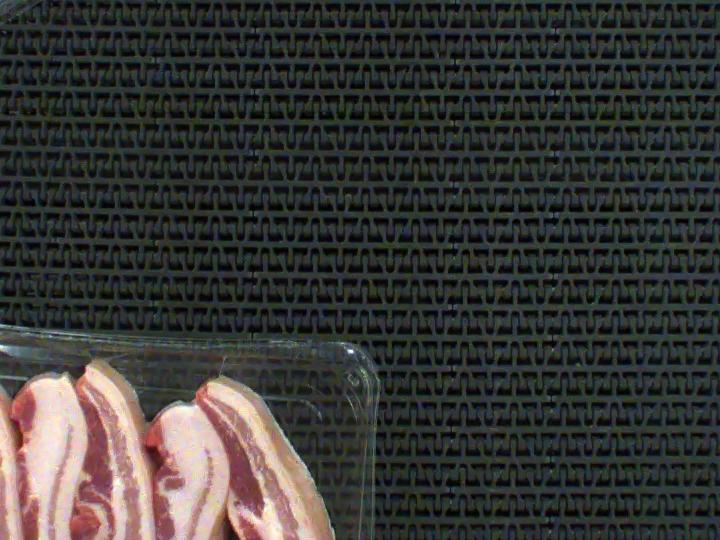loose-meat: (222, 434, 339, 540)
packaging-error: (51, 302, 249, 392)
